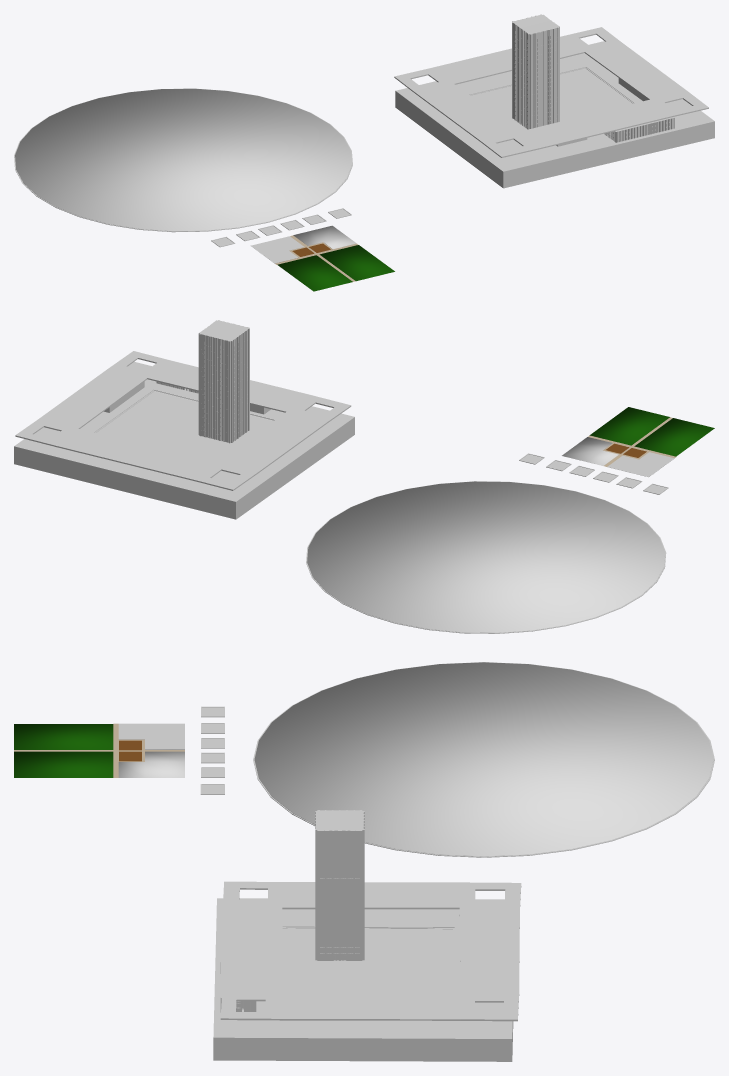
The model's file is UptownCampusWIP.fbx.
3 views of the same model, one above another, from view 1: azimuth 30°, elevation 25°; view 2: azimuth 150°, elevation 25°; view 3: azimuth 270°, elevation 25° (orthographic). The views are drawn at different scales.
Parts seen in each view (by area): view 1: Grass, Quad_Base, Roof, Eastman_Tower, Grass_1.004, Grass_1.002, Grass_1, Grass_Lining, Fulton, Walkway; view 2: Grass, Quad_Base, Roof, Eastman_Tower, Grass_1.004, Grass_1, Grass_1.002, Grass_Lining, Walkway; view 3: Grass, Quad_Base, Roof, Eastman_Tower, Grass_1.004, Grass_1, Grass_1.002, Grass_Lining, Walkway.
Boxes of the visible parts, bbox=[...] form: Grass: bbox=[15, 88, 351, 231]; Quad_Base: bbox=[395, 41, 714, 188]; Roof: bbox=[394, 27, 708, 157]; Eastman_Tower: bbox=[512, 14, 559, 129]; Grass_1.004: bbox=[250, 225, 356, 263]; Grass_1.002: bbox=[277, 255, 352, 291]; Grass_1: bbox=[319, 245, 394, 281]; Grass_Lining: bbox=[14, 88, 352, 232]; Fulton: bbox=[604, 117, 674, 142]; Walkway: bbox=[275, 235, 358, 281]; Grass: bbox=[307, 481, 664, 632]; Quad_Base: bbox=[14, 361, 354, 519]; Roof: bbox=[15, 351, 351, 490]; Eastman_Tower: bbox=[198, 320, 249, 443]; Grass_1.004: bbox=[562, 437, 674, 477]; Grass_1: bbox=[589, 407, 669, 445]; Grass_1.002: bbox=[634, 418, 714, 456]; Grass_Lining: bbox=[306, 481, 666, 633]; Walkway: bbox=[588, 417, 676, 466]; Grass: bbox=[254, 662, 713, 856]; Quad_Base: bbox=[213, 898, 513, 1061]; Roof: bbox=[220, 881, 521, 1021]; Eastman_Tower: bbox=[315, 810, 364, 960]; Grass_1.004: bbox=[118, 723, 184, 777]; Grass_1: bbox=[14, 751, 113, 777]; Grass_1.002: bbox=[14, 724, 113, 749]; Grass_Lining: bbox=[253, 662, 714, 857]; Walkway: bbox=[14, 723, 184, 777].
Size of the model in its own units: 130761 by 24069 by 100487.
